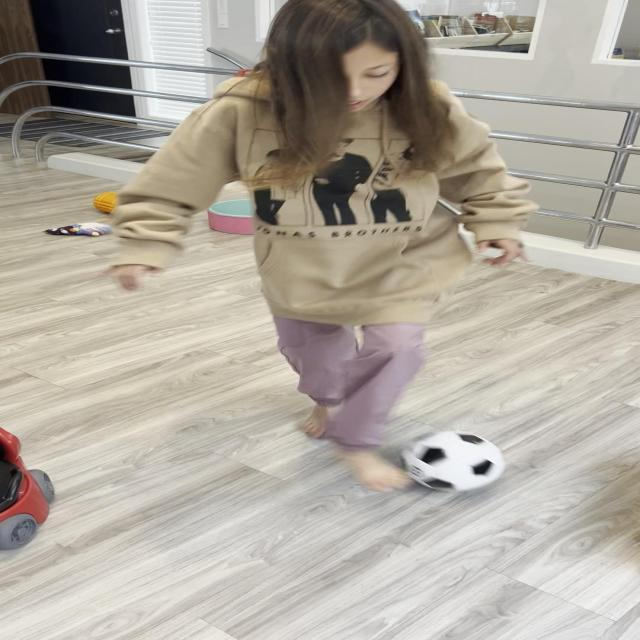Soccer Ball: (400, 431, 506, 492)
